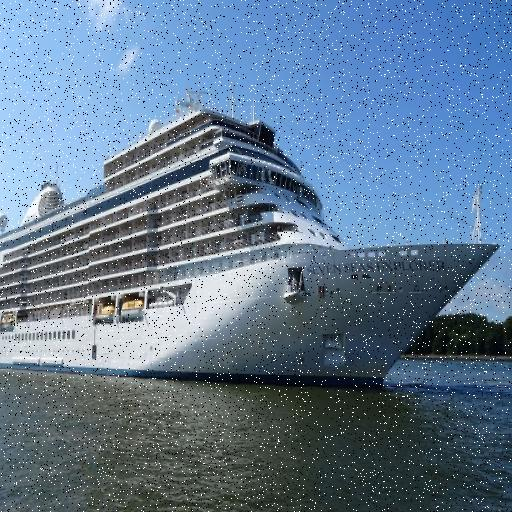cruises: (1, 81, 506, 408)
